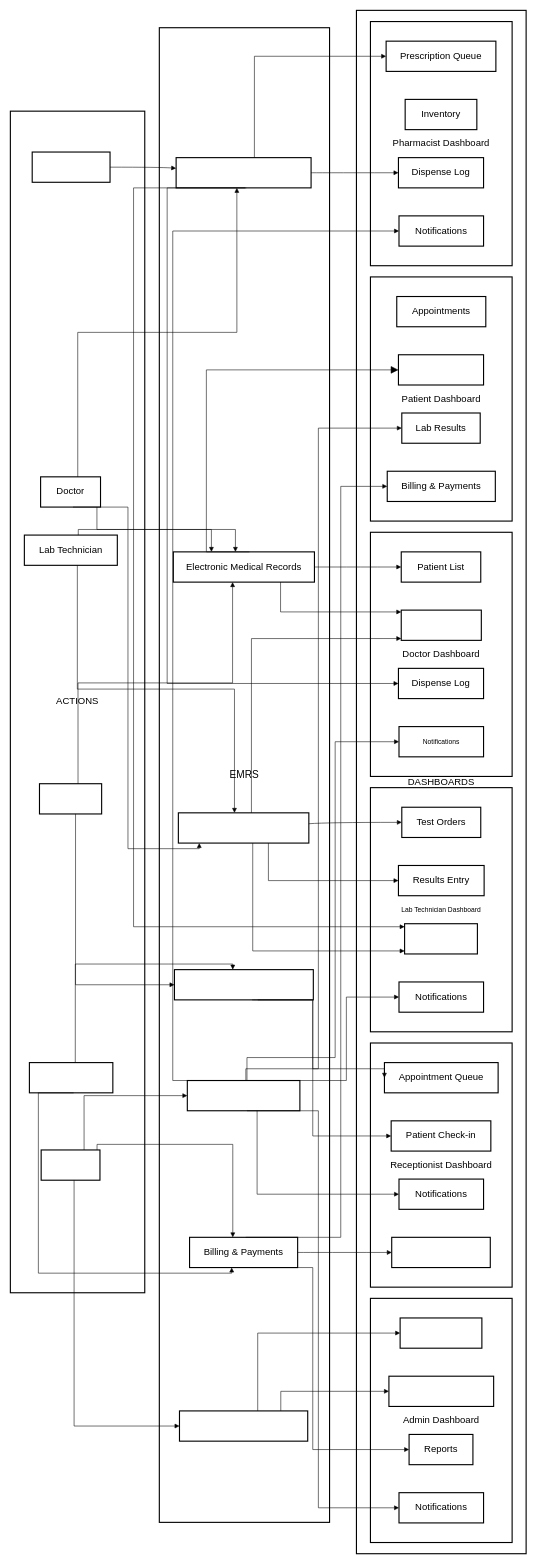
The diagram is 536 pixels wide and 1564 high, and some of its shapes have lost their labels. The centre of each missing label's shape, as x and y in pixels:
Admin: point (70, 1164)
Appointment Management: point (244, 984)
Automatic Auth & RBAC: point (243, 1425)
Billing Overview: point (441, 1252)
EMR Viewer: point (441, 625)
Laboratory Management: point (243, 827)
Notification Service: point (243, 1095)
Patient: point (70, 798)
Pharmacist: point (70, 167)
Prescription Management: point (243, 172)
Prescriptions: point (441, 369)
Prescripts: point (441, 938)
Receptionist: point (71, 1077)
System Logs: point (440, 1332)
User Management: point (441, 1391)
